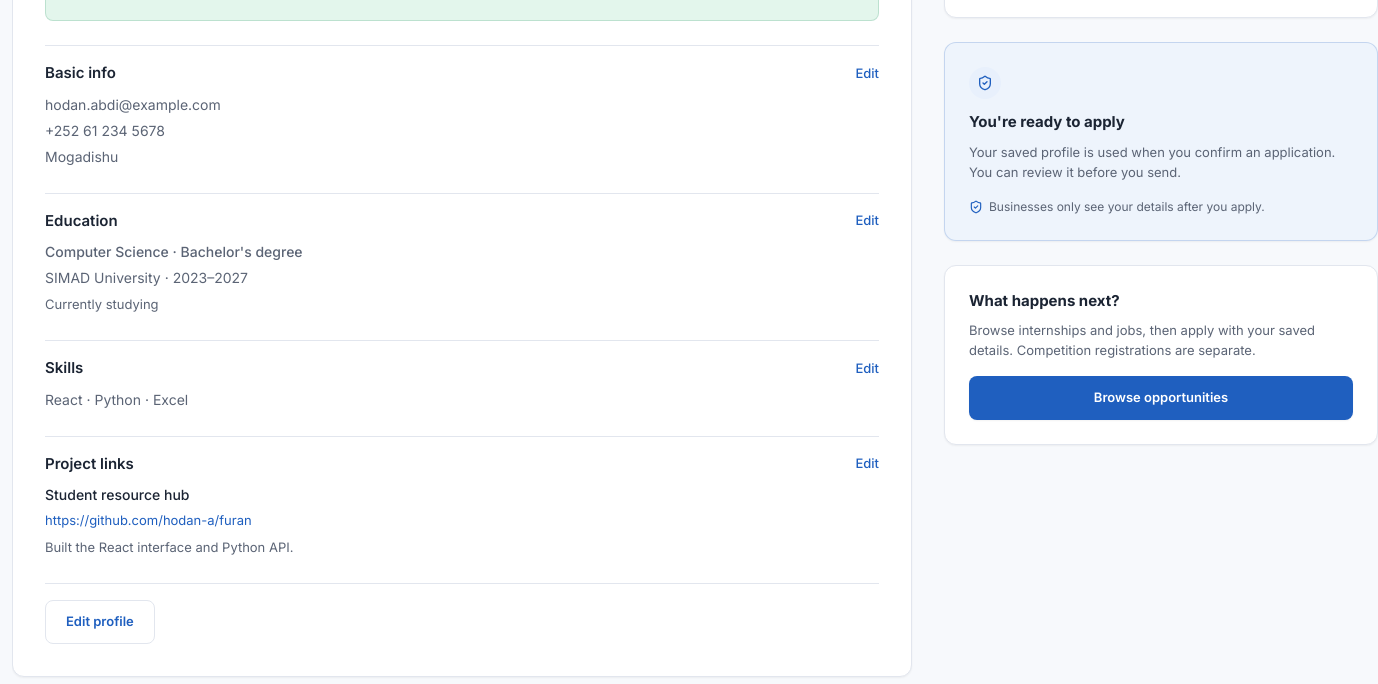
Test: Student Workspace — Phase 7 Suite › Student Profile › displays validation error banner when invalid in Edit mode
The width and height of the screenshot is (1378, 684).
(page scrolled)
Switch to Edit mode
Click the button "Edit profile" at point(100, 622), box [45,600,155,644]
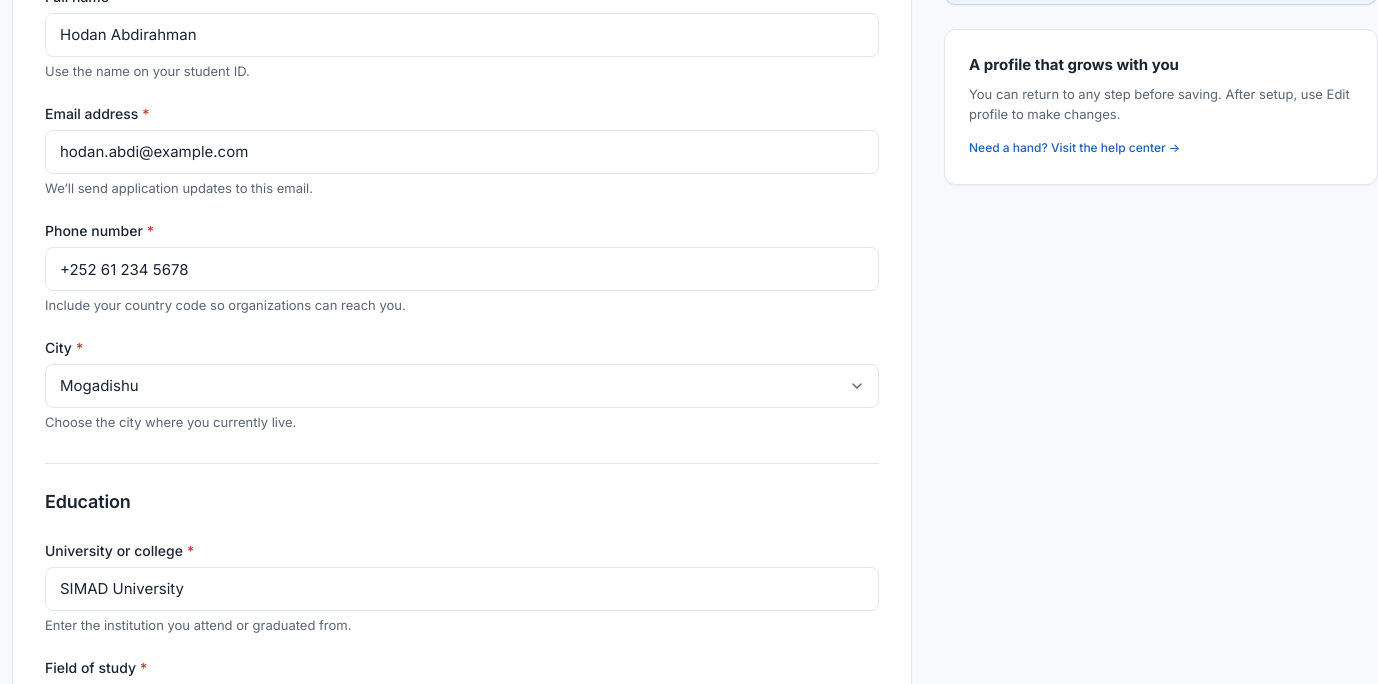
Clear full name
Clear the field labelled "Full name*" at point(462, 34), box [45,12,879,56]
(page scrolled)
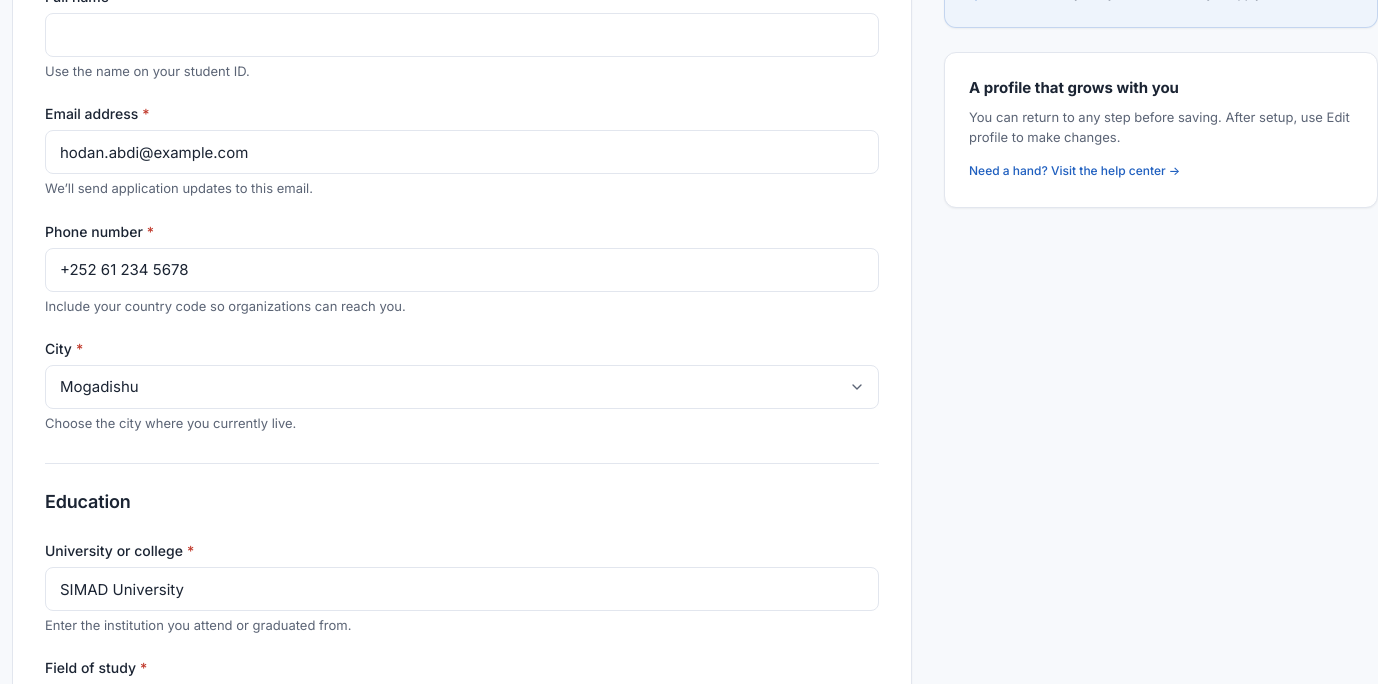
Clear email
Replace the text in the field labelled "Email address*" with "invalid-email" at point(462, 152), box [45,130,879,174]
(page scrolled)
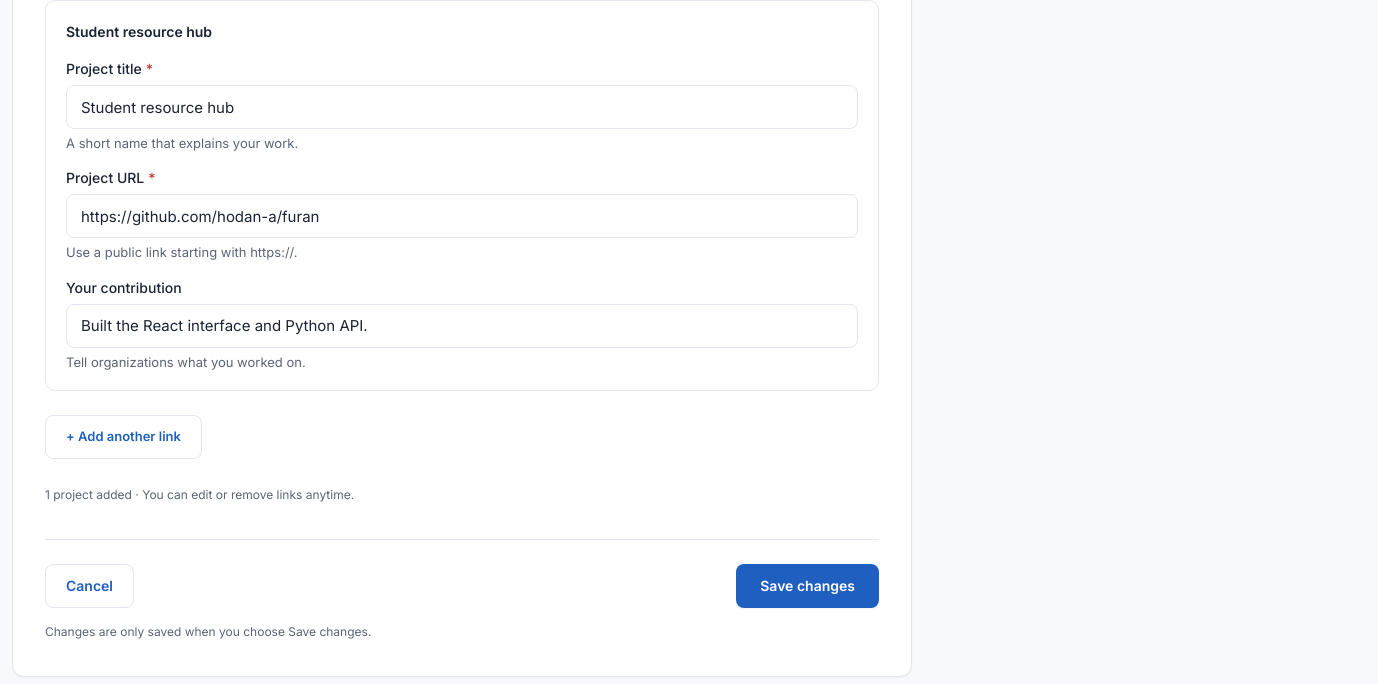
Click Save changes
Click the button "Save changes" at point(808, 586), box [736,564,879,608]
(page scrolled)
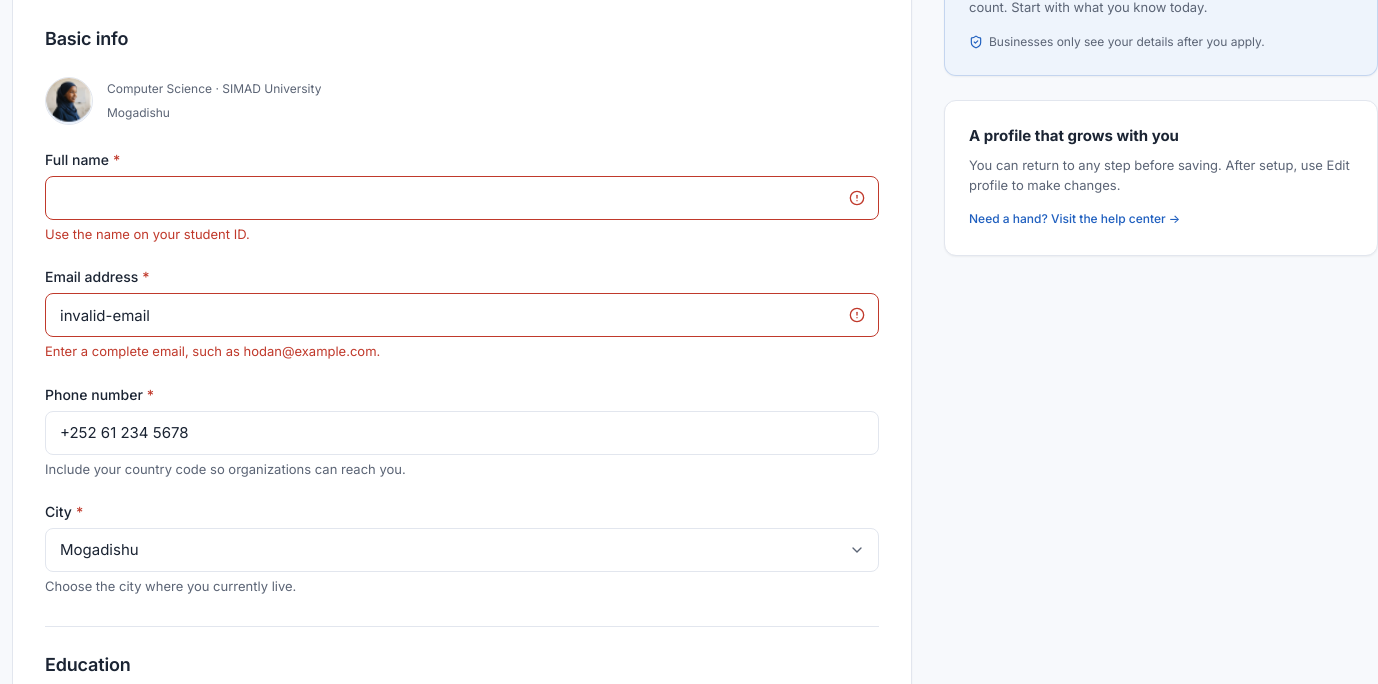
Now the text "Enter a complete email, such as hodan@example.com." is shown, box [45,343,380,359]
